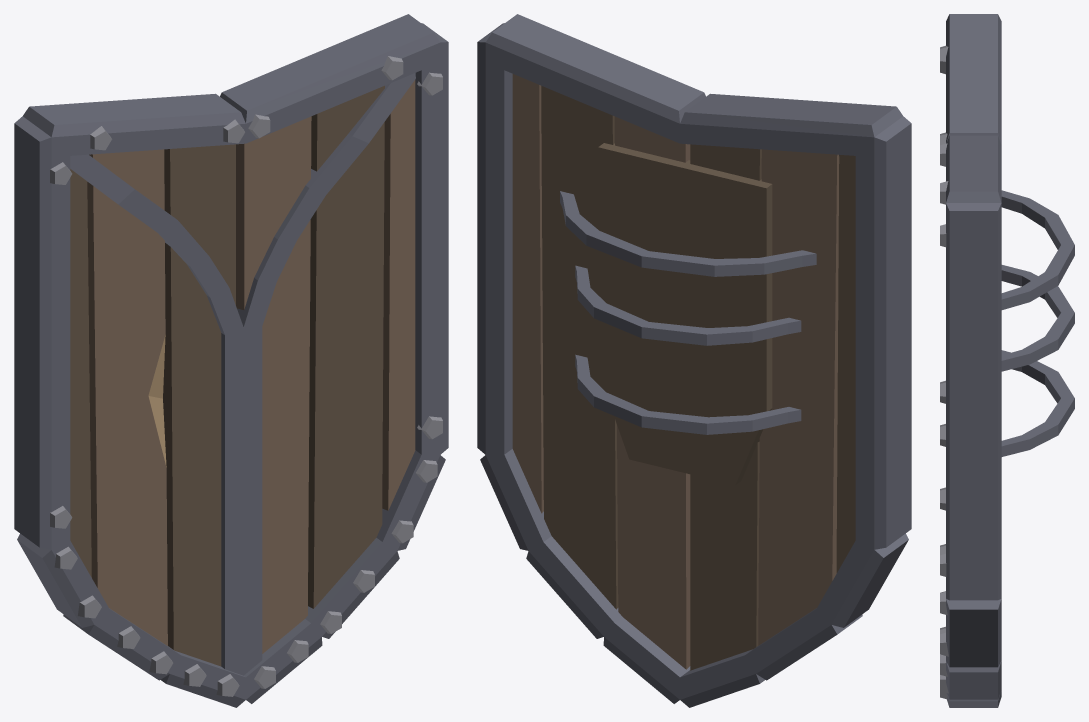
The model's file is _shield_13.fbx.
3 views of the same model, side by side, from view 1: azimuth 30°, elevation 25°; view 2: azimuth 150°, elevation 25°; view 3: azimuth 270°, elevation 25° (orthographic). The views are drawn at different scales.
Parts seen in each view (by area): view 1: shield_13; view 2: shield_13; view 3: shield_13.
Part boxes in pixels (x1,y1,x2,y2): shield_13: [14, 14, 448, 707]; shield_13: [477, 14, 911, 707]; shield_13: [940, 14, 1074, 707].
Size of the model in its own units: 65.31 by 95.76 by 19.44.
